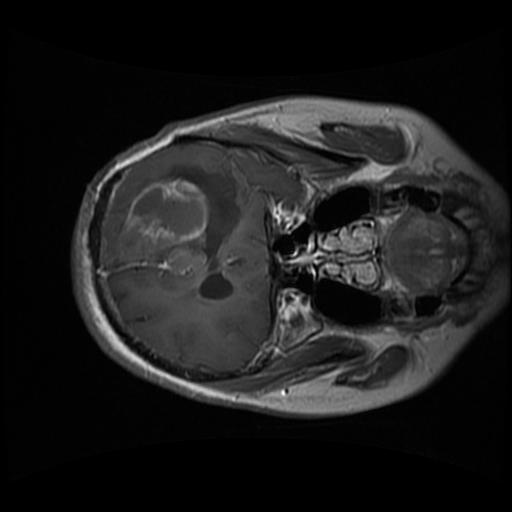glioma: (122, 165, 239, 265)
